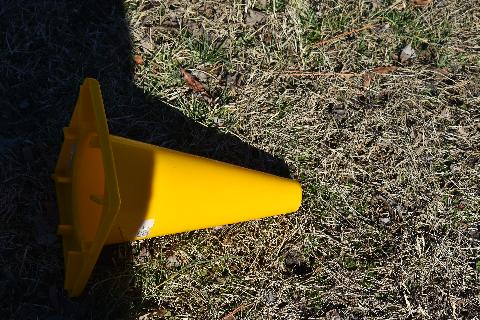cone: (49, 78, 301, 298)
